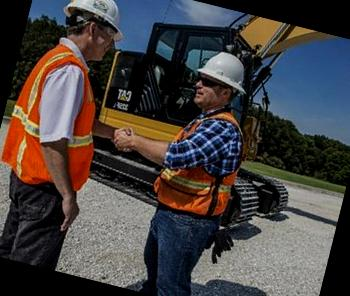helmet: (188, 43, 257, 102), (55, 0, 136, 47)
person: (117, 36, 270, 296), (0, 0, 138, 274)
